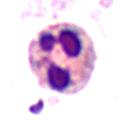eosi: (27, 21, 99, 95)
